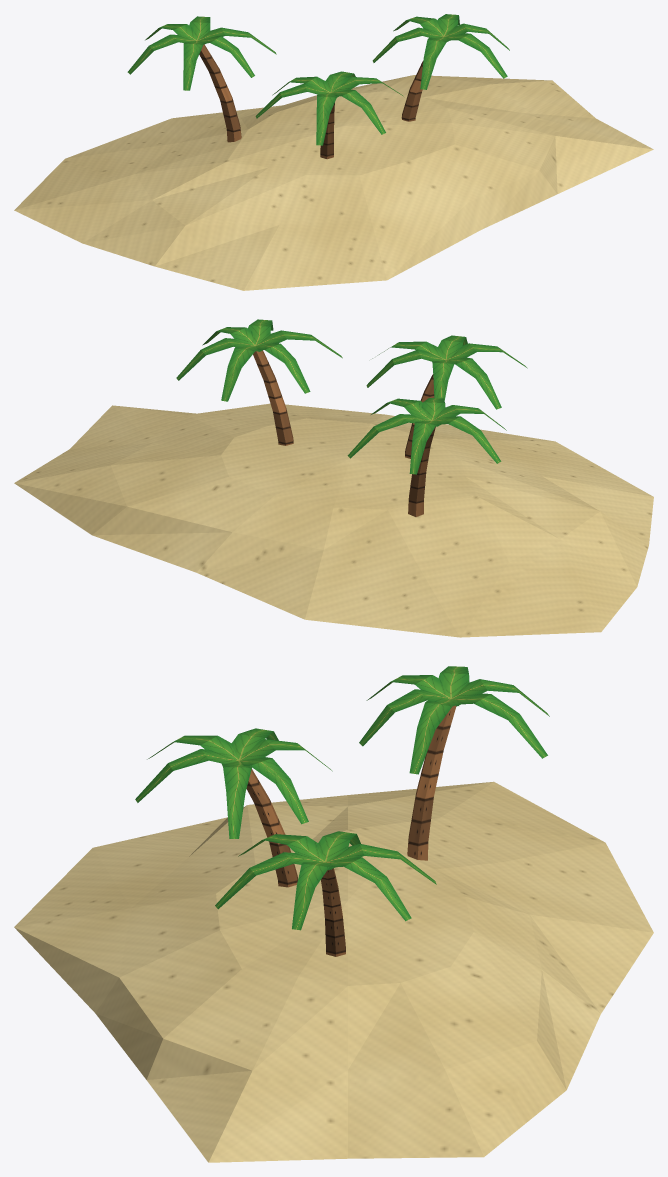
File: island2.obj
3 views of the same model, one above another, from view 1: azimuth 30°, elevation 25°; view 2: azimuth 150°, elevation 25°; view 3: azimuth 270°, elevation 25° (orthographic). The views are drawn at different scales.
Parts seen in each view (by area): view 1: Land, Palms; view 2: Land, Palms; view 3: Land, Palms.
Boxes of the visible parts, x1,y1,x2,y2 form: Land: (14,75,653,290); Palms: (127,14,509,159); Land: (14,403,653,637); Palms: (176,319,527,516); Land: (14,781,653,1162); Palms: (135,666,549,956).
Bounding box in the file's own units: 7.95 × 2.07 × 5.62.
4 materials, 4 textured.
